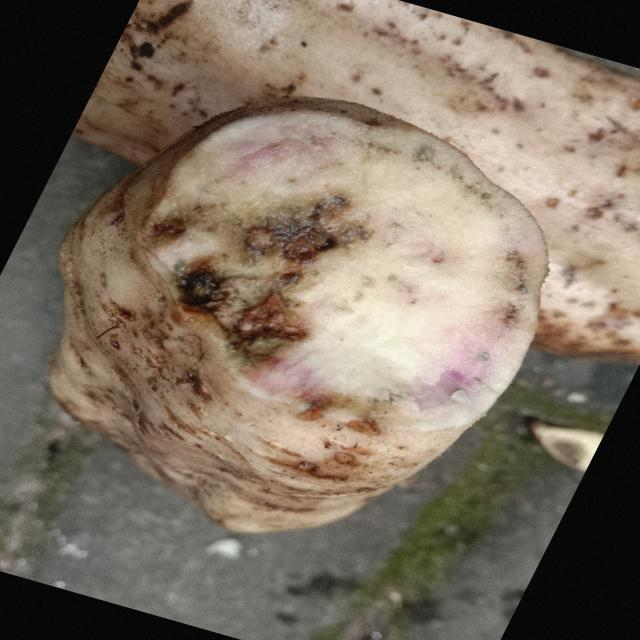Sick Sweet Potato_Tuber Rot: (143, 110, 547, 430)
